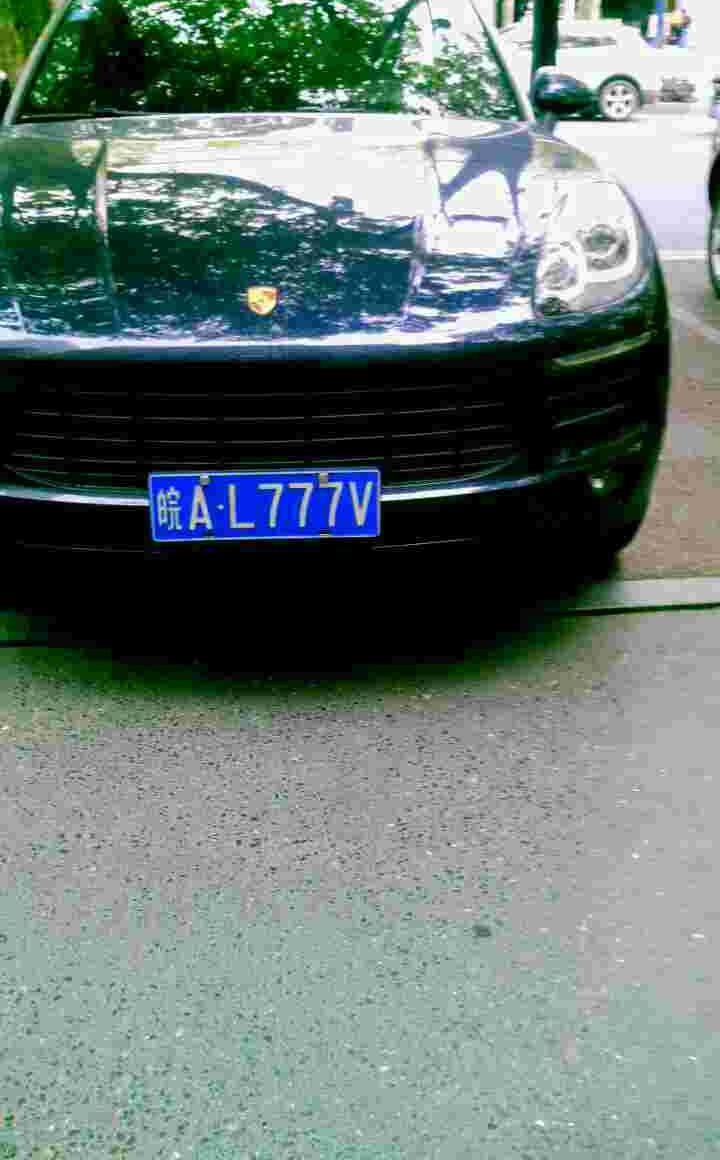license_plate: (146, 472, 386, 543)
